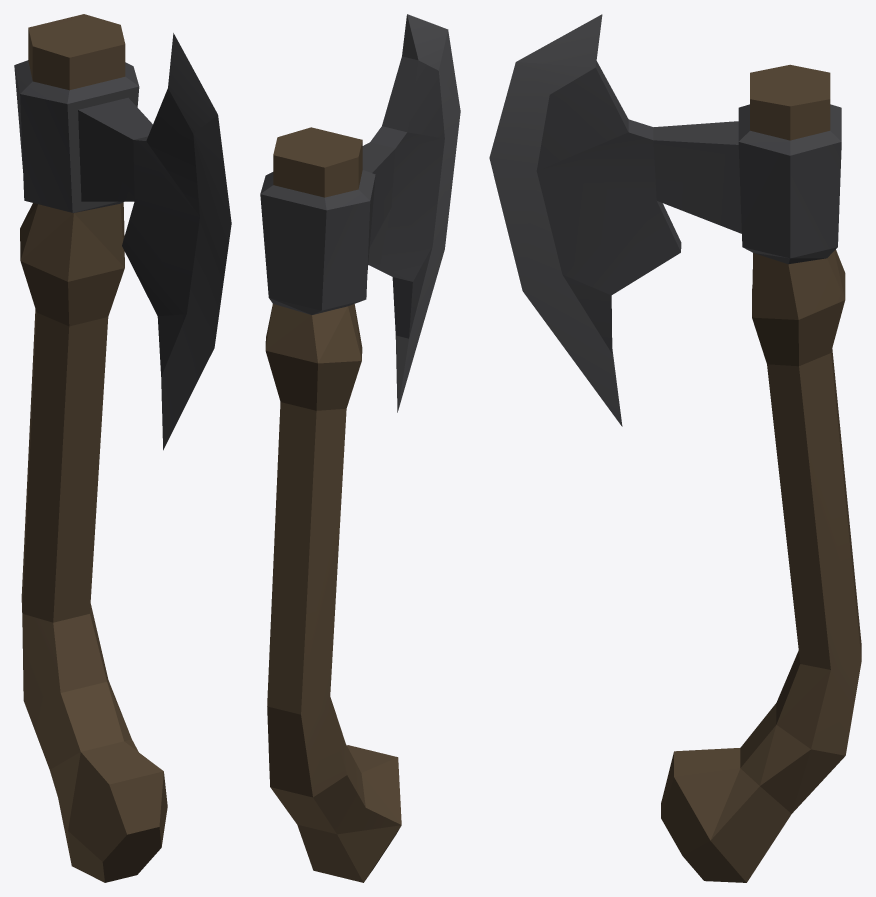
File: Hacha_01.glb
The picture shows the model from 3 angles, left to right: view 1: azimuth 30°, elevation 25°; view 2: azimuth 150°, elevation 25°; view 3: azimuth 270°, elevation 25°; orthographic projection. The views are drawn at different scales.
Parts seen in each view (by area): view 1: SM_Wep_Axe_02; view 2: SM_Wep_Axe_02; view 3: SM_Wep_Axe_02.
Boxes of the visible parts, left/top/right/bottom form: SM_Wep_Axe_02: left=14, top=14, right=231, bottom=882; SM_Wep_Axe_02: left=260, top=14, right=460, bottom=882; SM_Wep_Axe_02: left=489, top=14, right=861, bottom=882.
Bounding box in the file's own units: 0.1058 × 0.7887 × 0.3096.
1 material, 1 textured.
